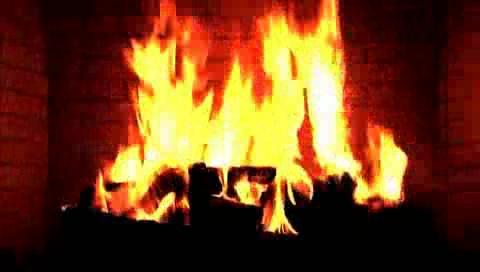fire: (104, 3, 405, 243)
